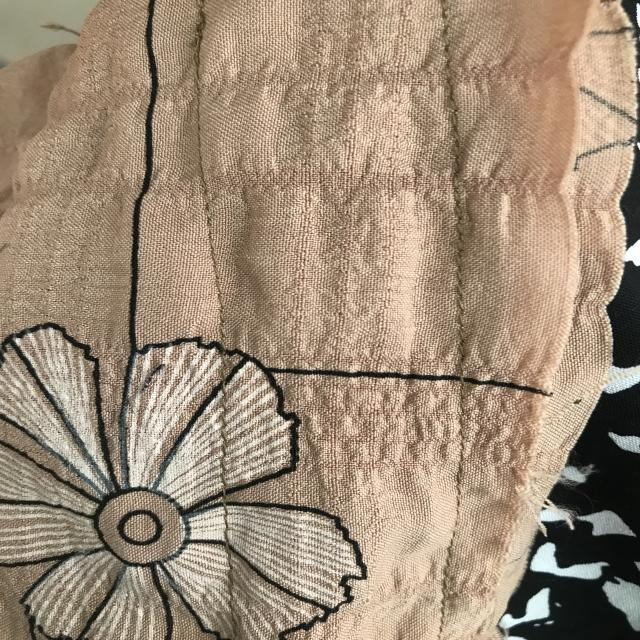good: (214, 389, 237, 487)
